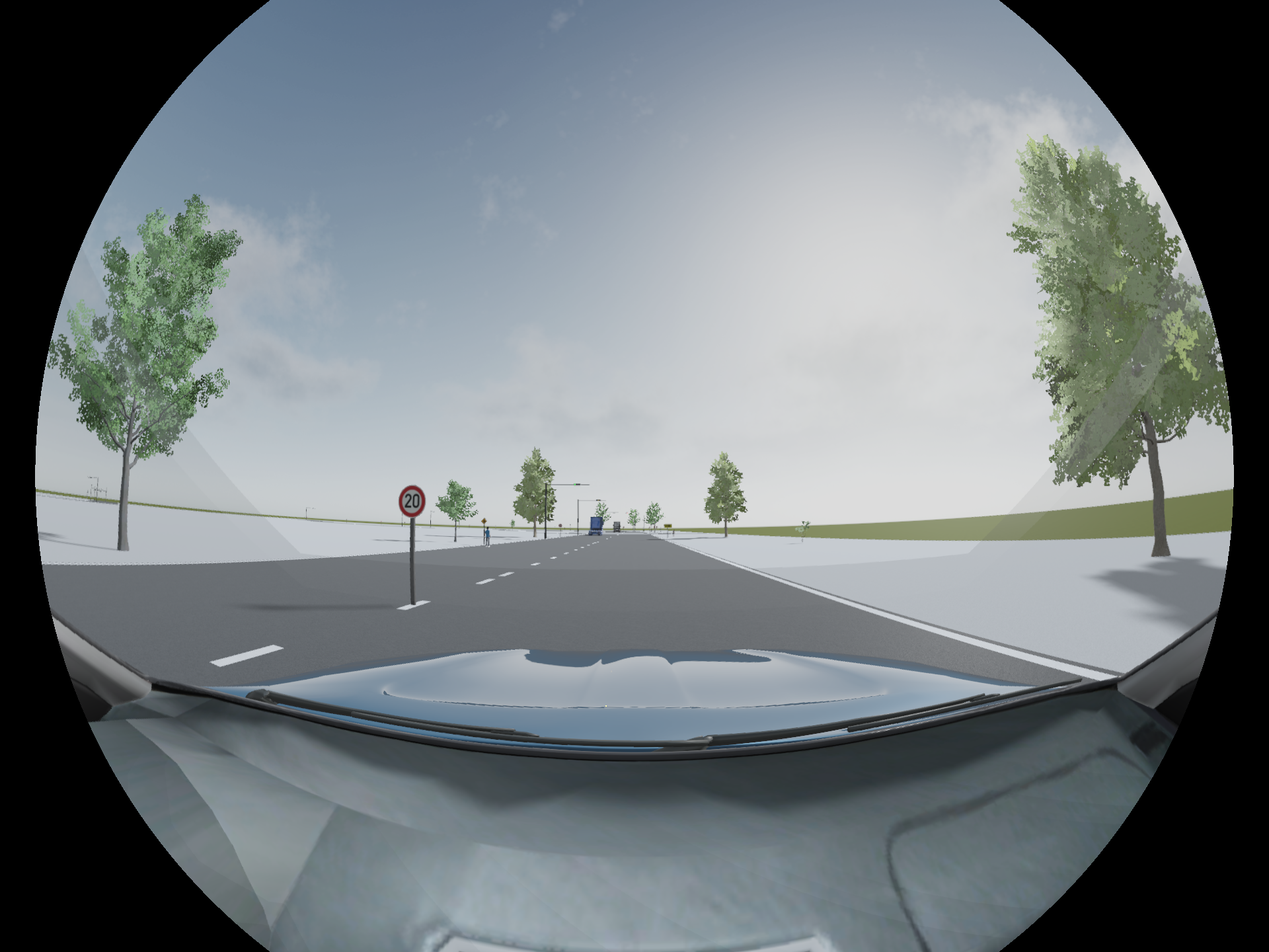Green Light: (572, 482, 581, 486)
Speed Limit 20: (399, 484, 425, 518)
